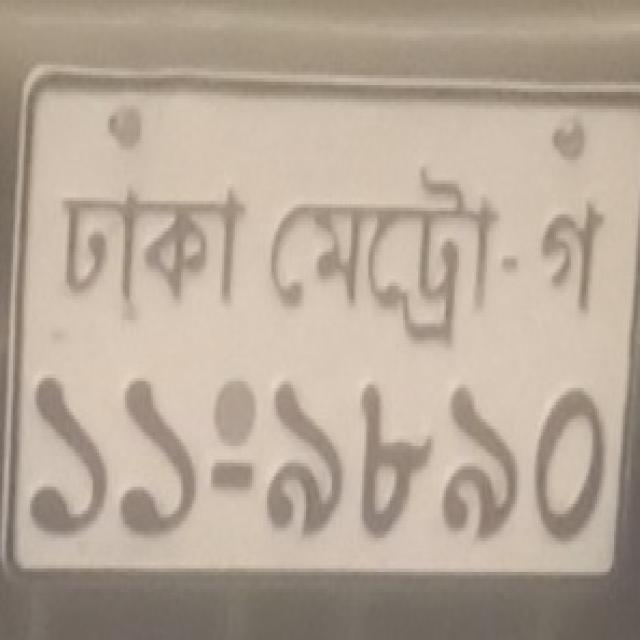numberplate: (4, 61, 638, 579)
